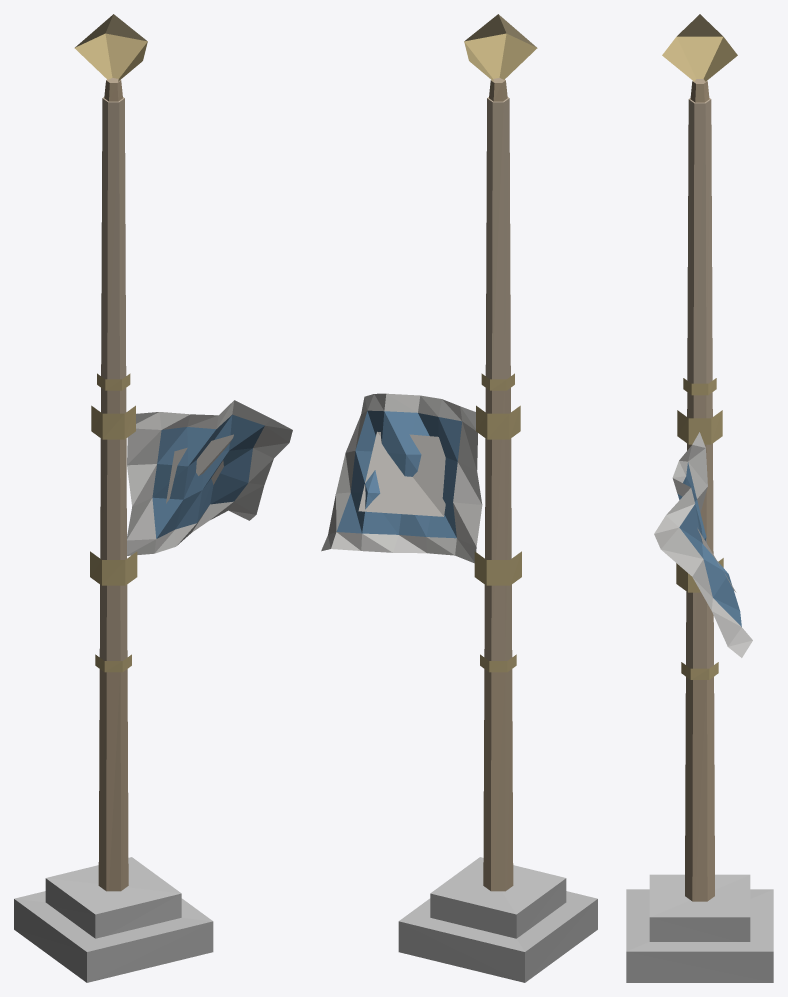
The model's file is flag.square.qingqi__pole.ground.gaogan__midmast.glb.
The picture shows the model from 3 angles, left to right: view 1: azimuth 30°, elevation 25°; view 2: azimuth 150°, elevation 25°; view 3: azimuth 270°, elevation 25°; orthographic projection.
Visible parts, largest first — view 1: flag.square.qingqi; view 2: flag.square.qingqi; view 3: flag.square.qingqi.
Boxes of the visible parts, left/top/right/bottom form: flag.square.qingqi: left=14, top=14, right=292, bottom=982; flag.square.qingqi: left=321, top=14, right=597, bottom=982; flag.square.qingqi: left=626, top=14, right=773, bottom=982.
Size of the model in its own units: 1.42 by 5.72 by 0.816.
